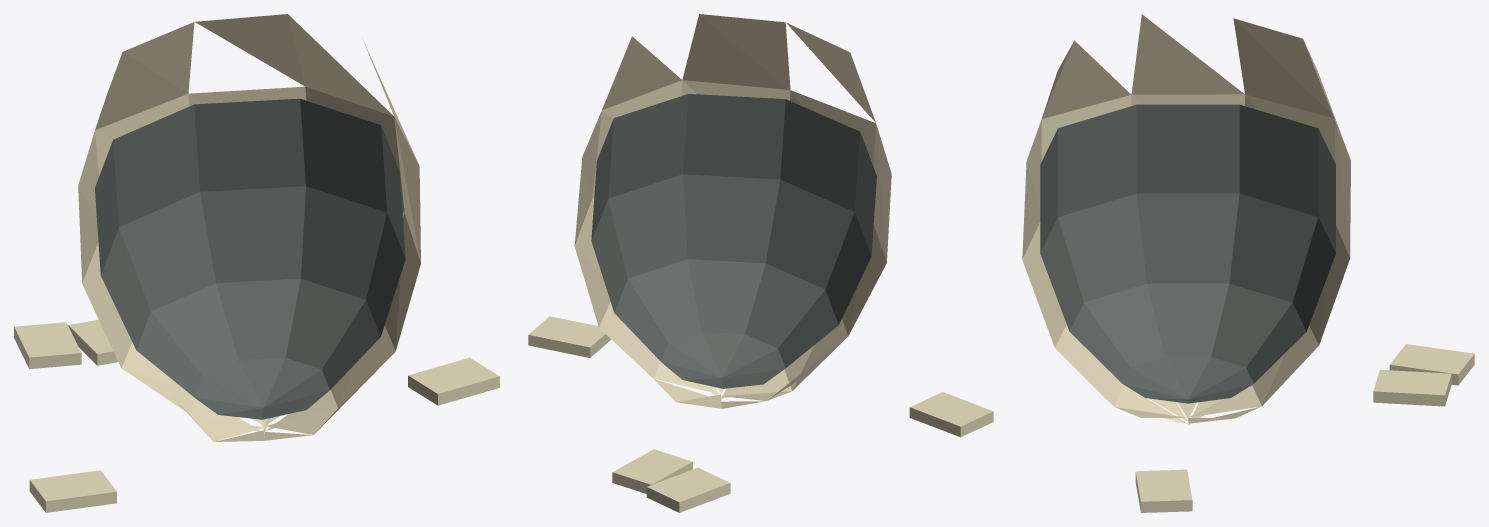
Rendered from dragons-and-wyverns-dragon-egg-cracked-f2e96a6b__36735.glb.
3 renders of one model, left to right at view 1: azimuth 30°, elevation 25°; view 2: azimuth 150°, elevation 25°; view 3: azimuth 270°, elevation 25°, orthographic. The views are drawn at different scales.
Parts seen in each view (by area): view 1: dragon-egg-cracked; view 2: dragon-egg-cracked; view 3: dragon-egg-cracked.
Part boxes in pixels (x1,y1,x2,y2): dragon-egg-cracked: [14, 14, 499, 512]; dragon-egg-cracked: [528, 14, 993, 512]; dragon-egg-cracked: [1022, 14, 1474, 512].
Bounding box in the file's own units: 0.5068 × 0.3869 × 0.4375.
